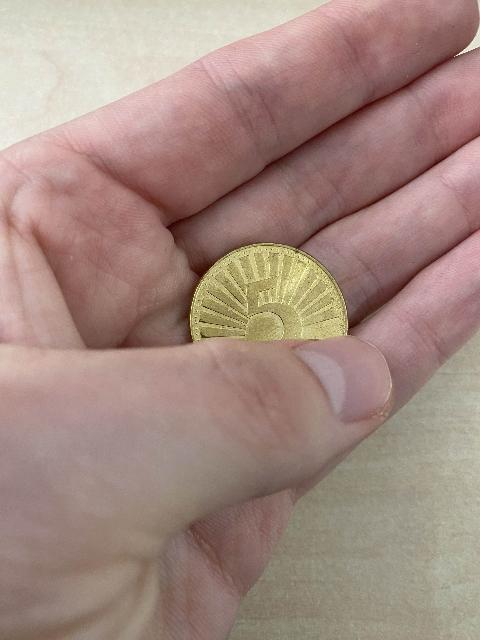5_coin: (190, 244, 347, 341)
